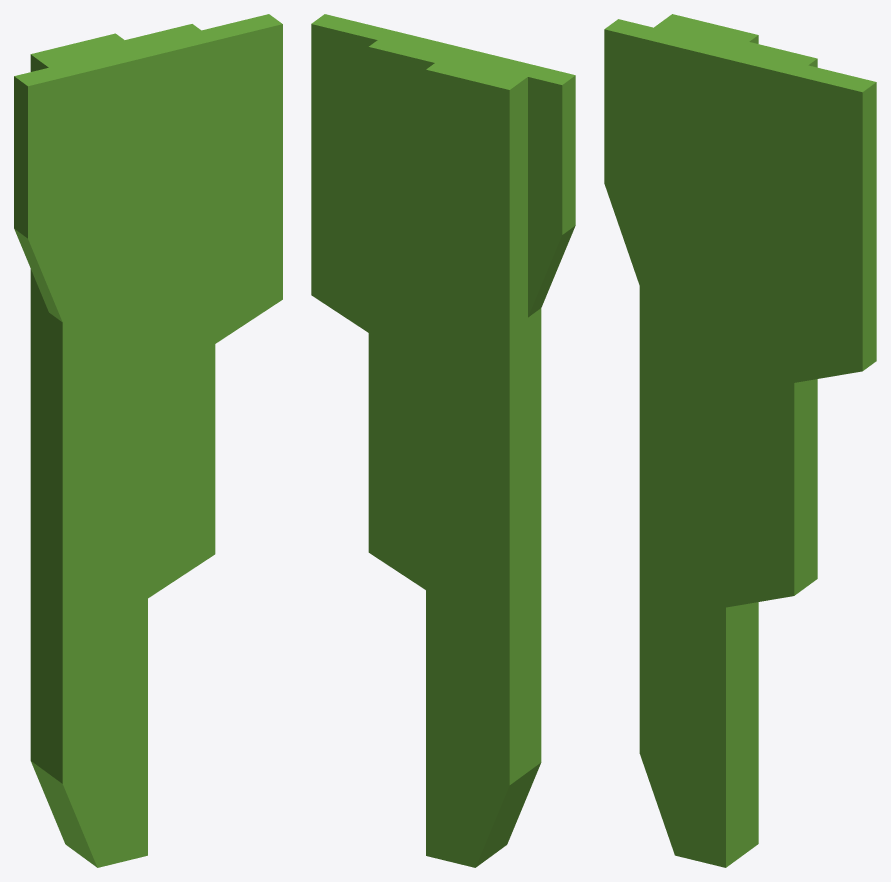
Rendered from hanging_moss.glb.
3 views of the same model, side by side, from view 1: azimuth 30°, elevation 25°; view 2: azimuth 150°, elevation 25°; view 3: azimuth 330°, elevation 25° (orthographic). The views are drawn at different scales.
Visible parts, largest first — view 1: hanging_moss; view 2: hanging_moss; view 3: hanging_moss.
Boxes of the visible parts, x1,y1,x2,y2 form: hanging_moss: (14,14,282,867); hanging_moss: (311,14,575,867); hanging_moss: (604,14,876,867).
Bounding box in the file's own units: 0.1598 × 0.4785 × 0.035.
